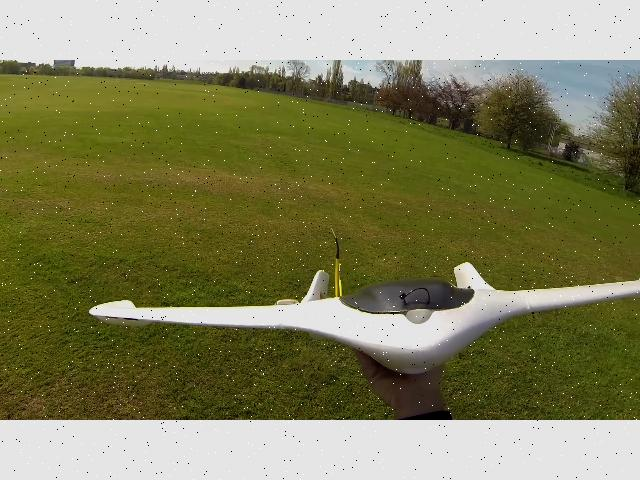Anti-Drone: (82, 244, 640, 382)
